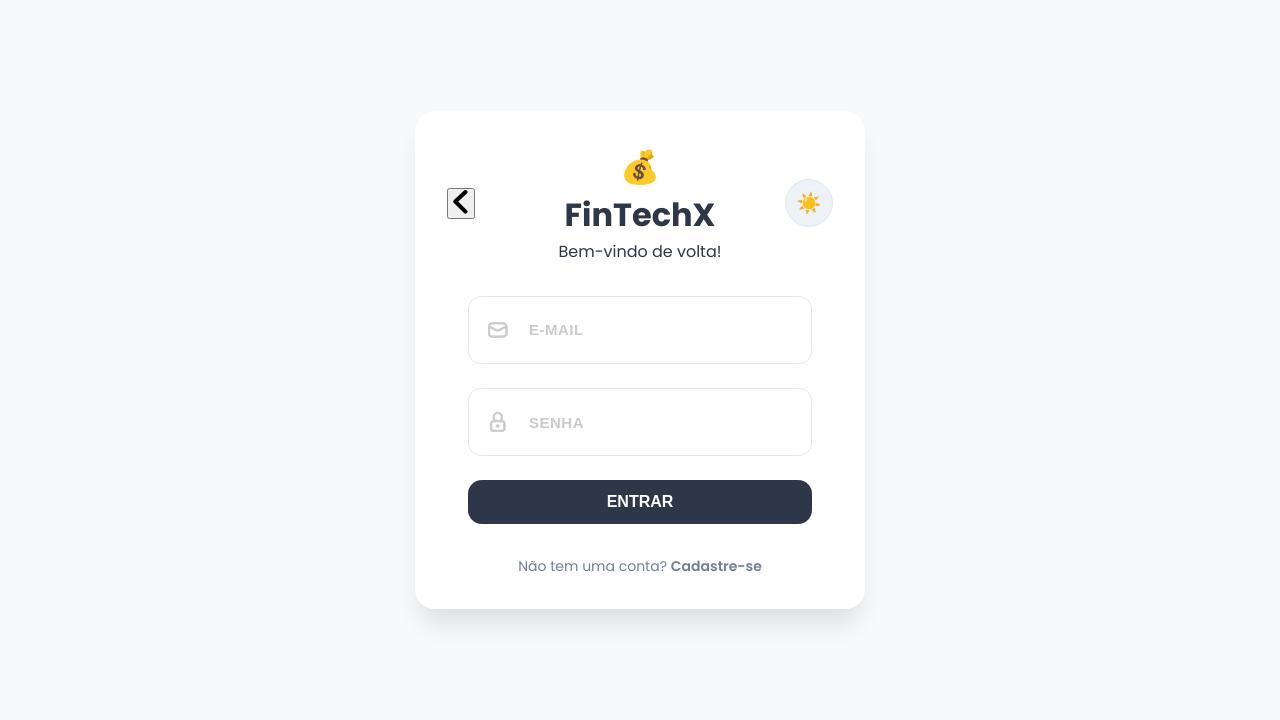
Test: Chat Interface › should populate input when suggestion chip is clicked
Type "test@example.com" into the field with test id "input-email" at {"x": 640, "y": 330}, box x1=468 y1=296 x2=812 y2=364
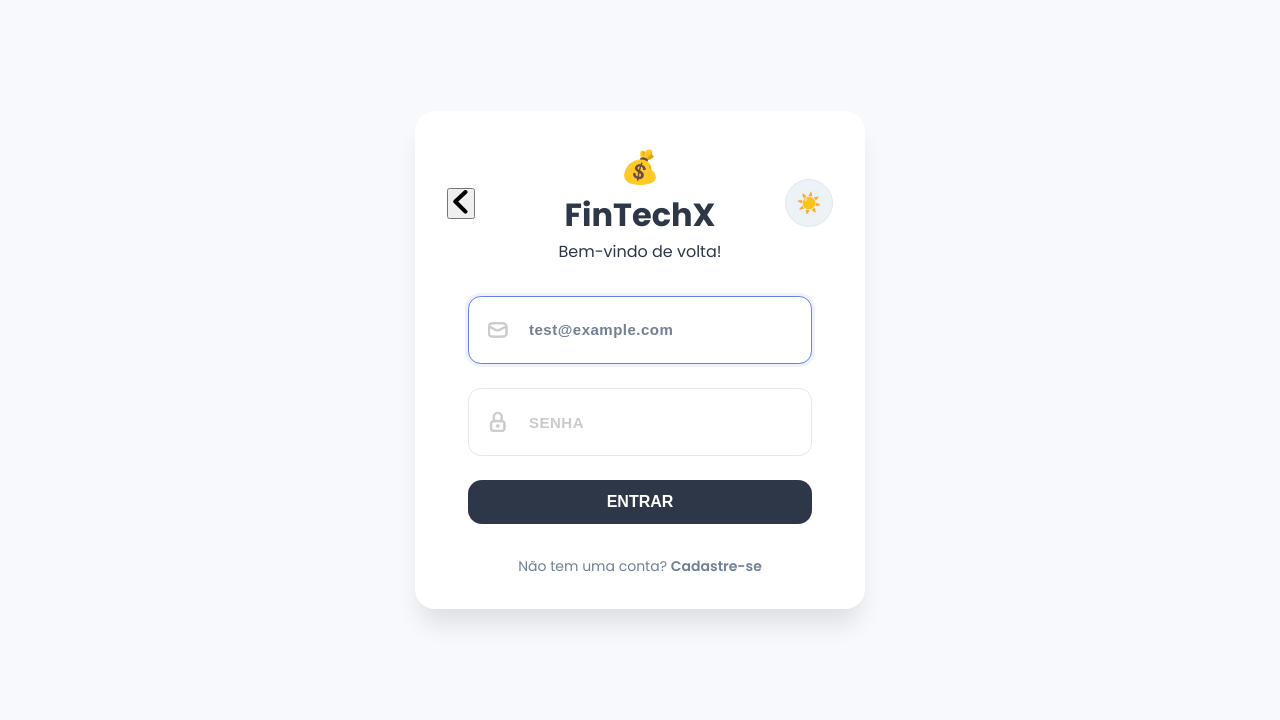
Type "password123" into the password field with test id "input-password" at {"x": 640, "y": 422}, box x1=468 y1=388 x2=812 y2=456
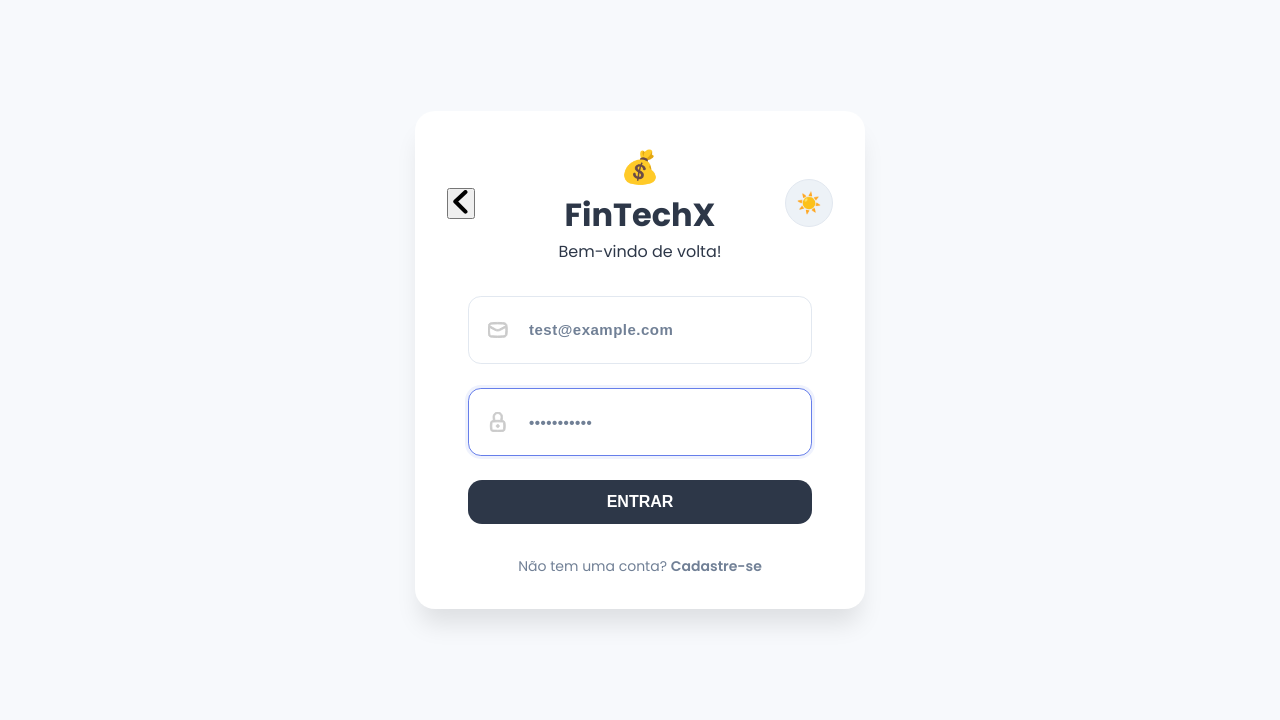
Click the submit button at {"x": 640, "y": 502}, box x1=468 y1=480 x2=812 y2=524
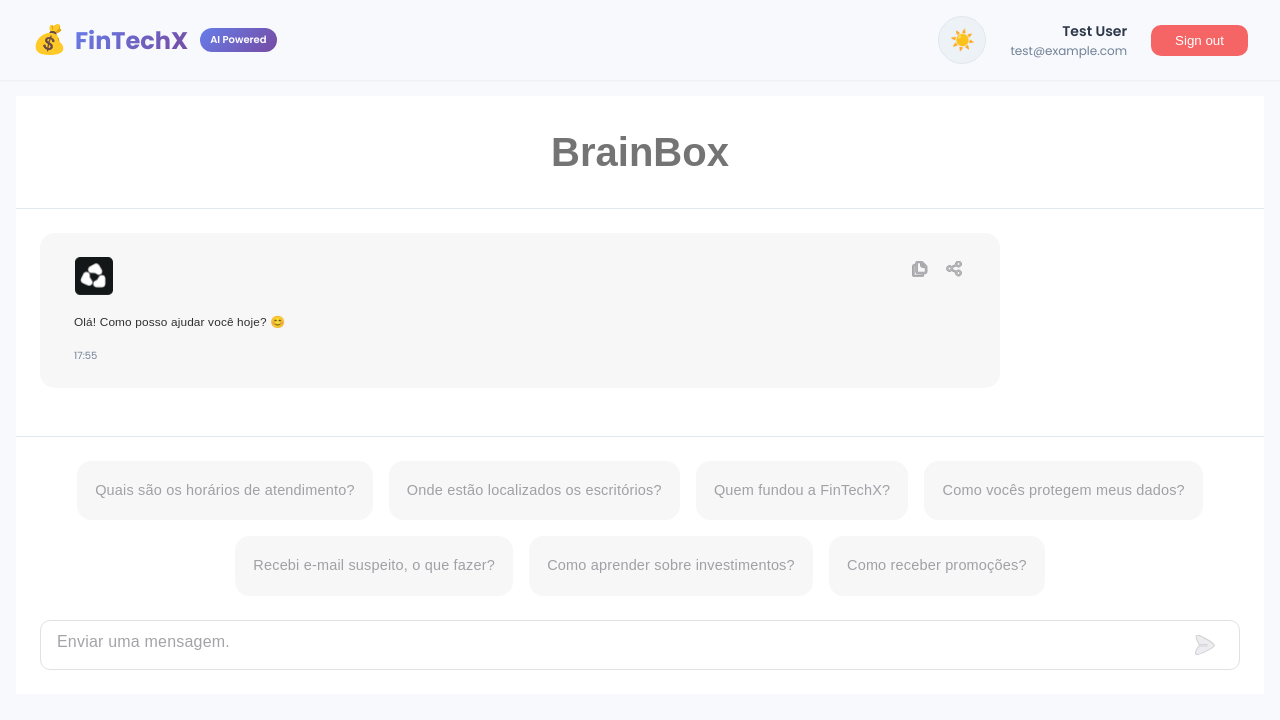
Click the button "Quais são os horários de atendimento?" at {"x": 225, "y": 491}, box x1=77 y1=461 x2=373 y2=520
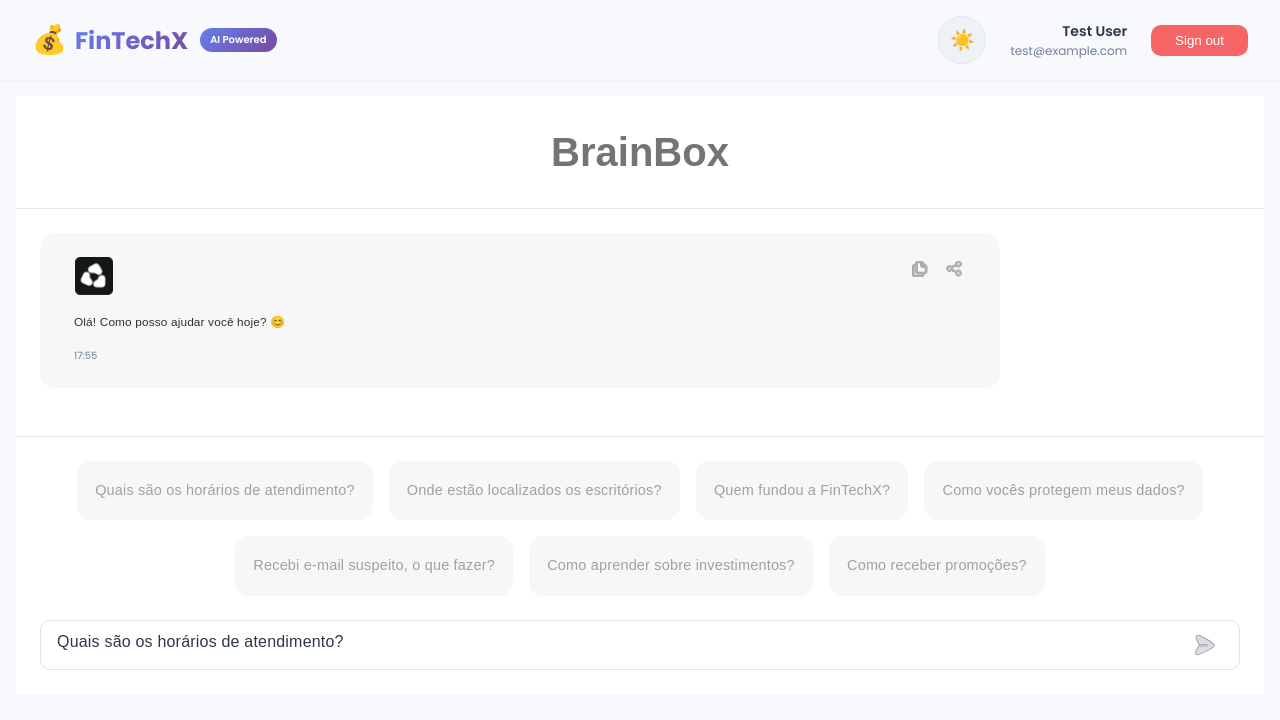
Expected: the text box with placeholder "Enviar uma mensagem." holds "Quais são os horários de atendimento?", x1=57 y1=621 x2=1171 y2=669
